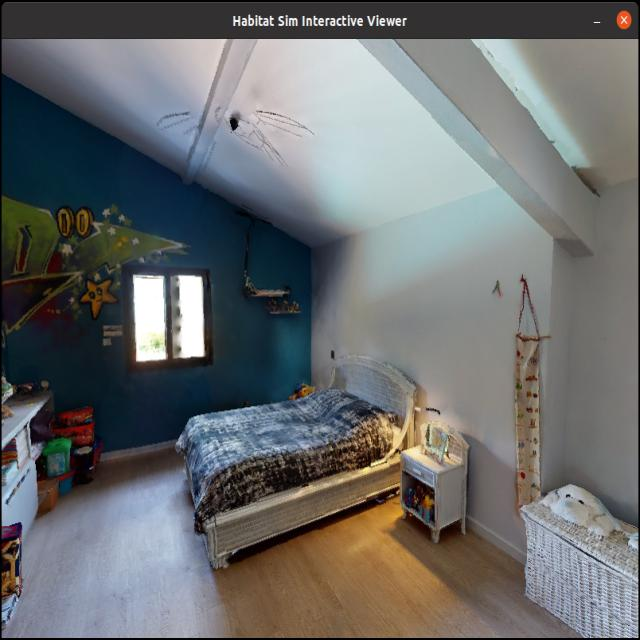bed: (171, 342, 430, 547)
